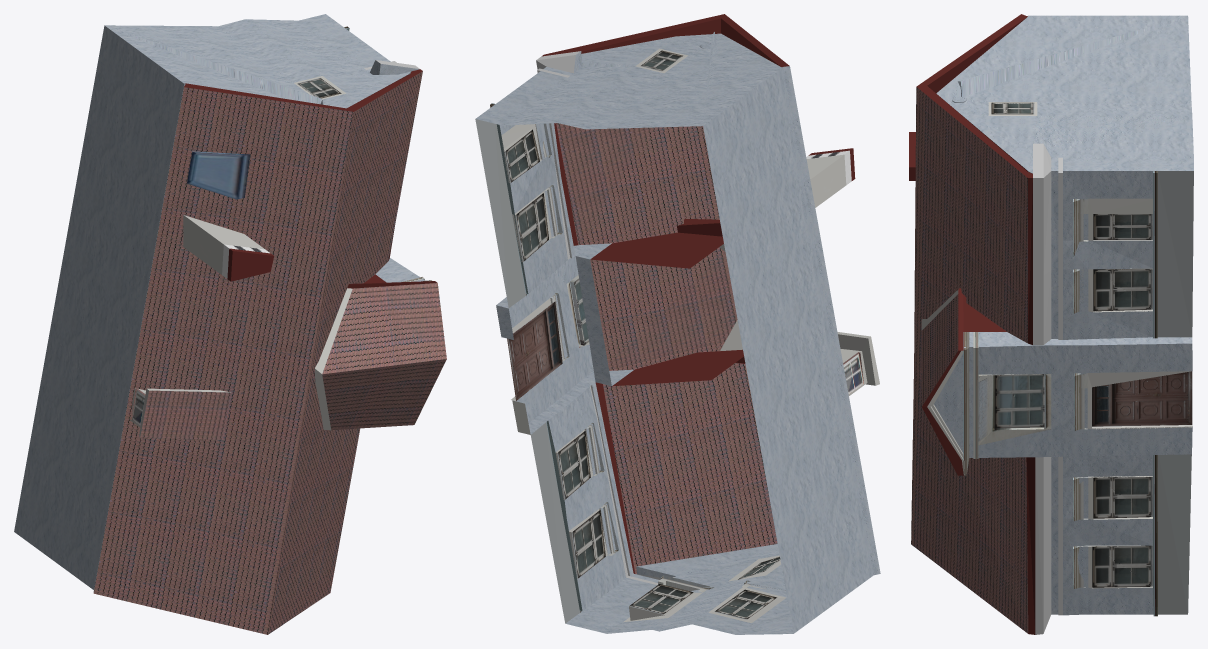
Rendered from Uus_35_1-origo.obj.
The picture shows the model from 3 angles, left to right: view 1: azimuth 30°, elevation 25°; view 2: azimuth 150°, elevation 25°; view 3: azimuth 270°, elevation 25°; orthographic projection.
Visible parts, largest first — view 1: polySurface6; view 2: polySurface6; view 3: polySurface6.
Part boxes in pixels (bbox=[...]): polySurface6: bbox=[14, 14, 446, 634]; polySurface6: bbox=[475, 14, 880, 634]; polySurface6: bbox=[909, 14, 1193, 634].
Bounding box in the file's own units: 11.5 × 18 × 8.5.
